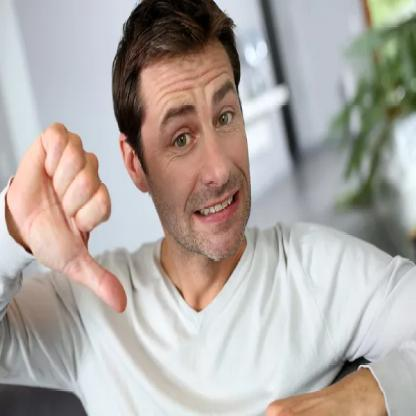thumb_down: (9, 118, 131, 318)
